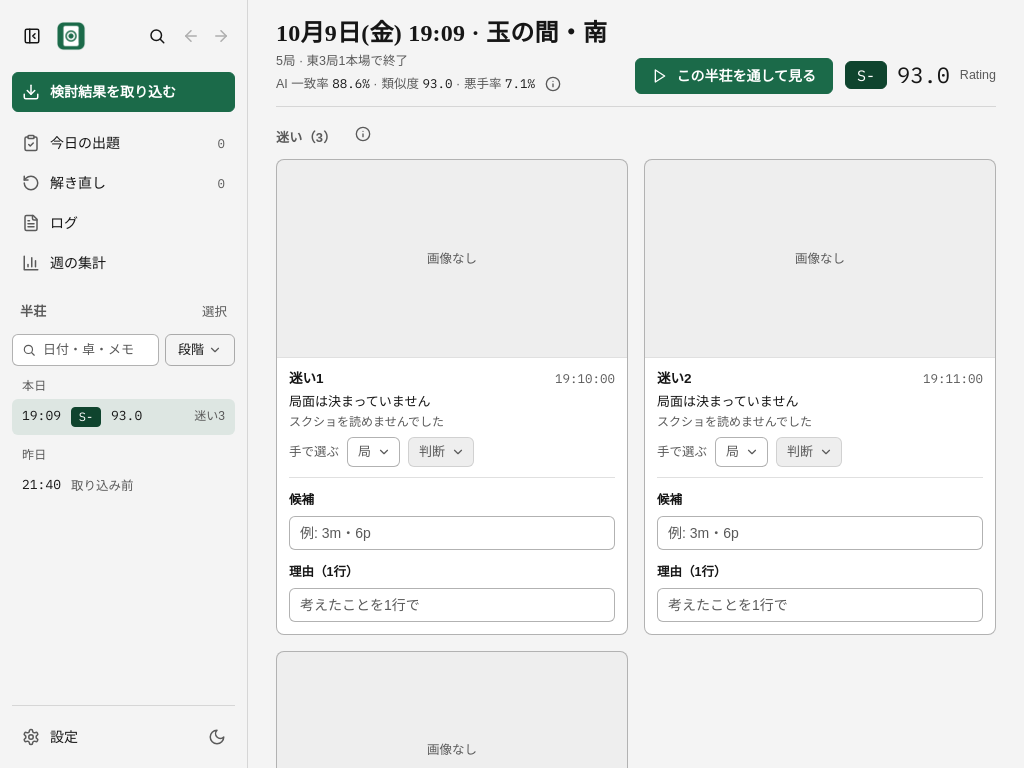
Test: U-32 広い窓: 同じボタンでサイドバーをしまえる。選びは覚える › 押すと、サイドバーがしまわれ（操作できない）、本文の上の帯に「サイドバーを開く」のボタンが出て、キーボードの位置がそこへ移る。もう一度押すと戻り、位置はサイドバーの中のボタンへ
Expected: the heading "10月9日(金) 19:09 · 玉の間・南" is shown, [276,18,607,49]
Click the button named "サイドバーを" at (32, 36), box [12,16,52,56]
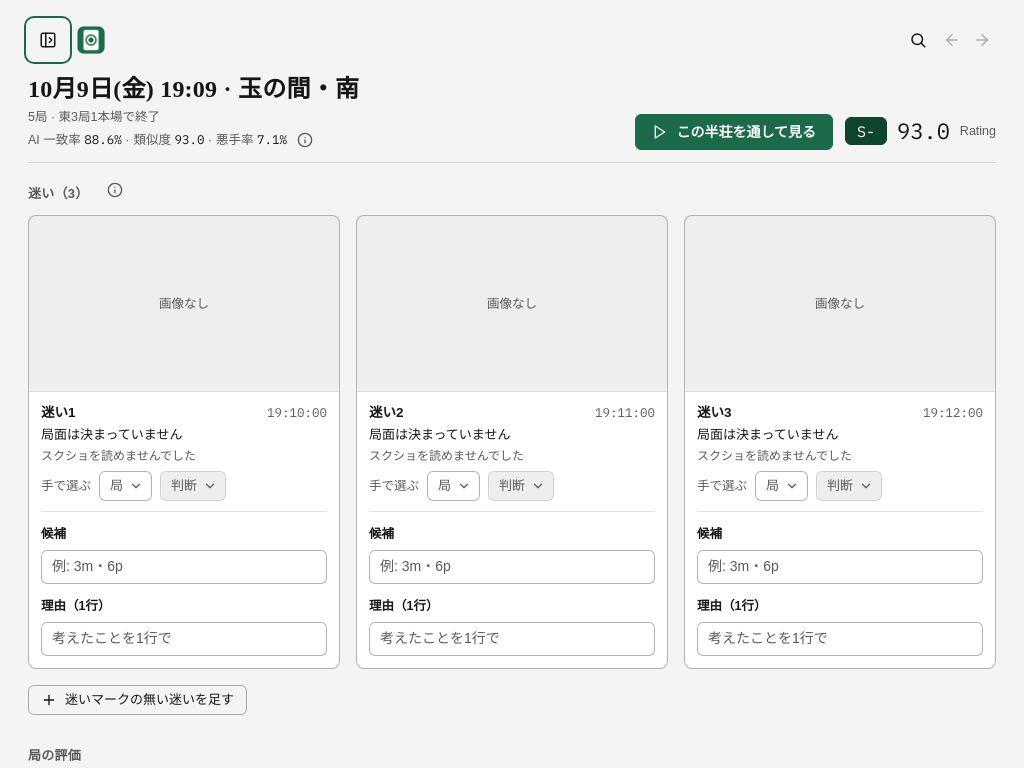
Result: the header with class "topbar" is shown at [28,18,996,62]
Result: the button named "サイドバーを" is collapsed
Result: the button named "検索" is shown at [902,25,932,55]
Click the button named "サイドバーを" at (48, 40), box [28,20,68,60]
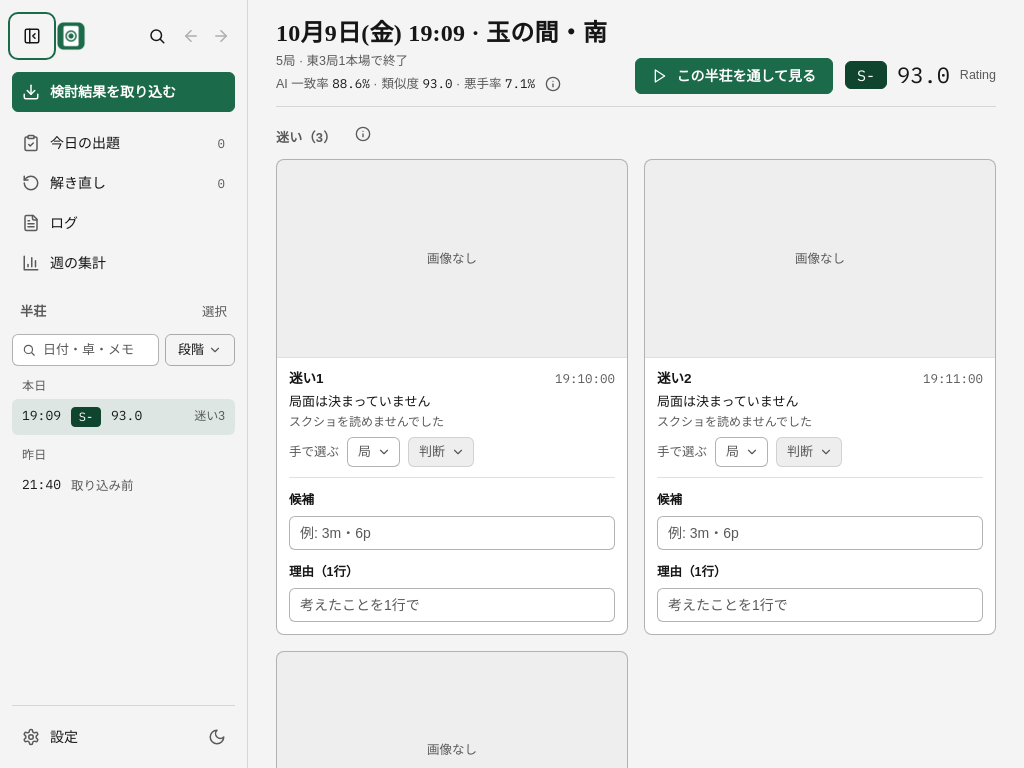
Result: the header with class "topbar" is gone
